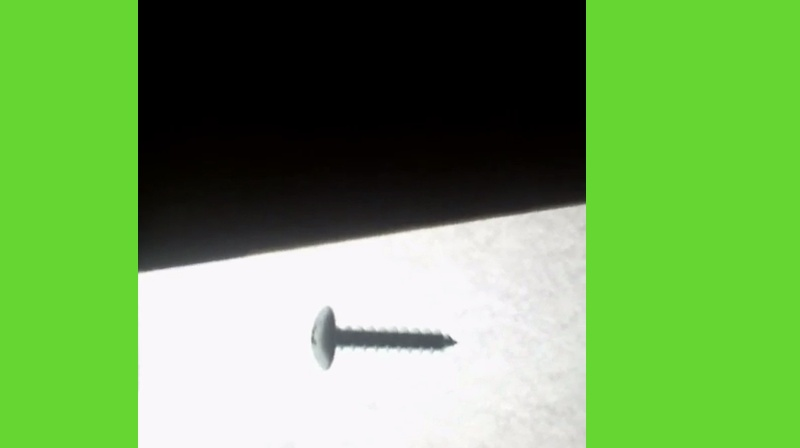S003: (303, 300, 459, 374)
